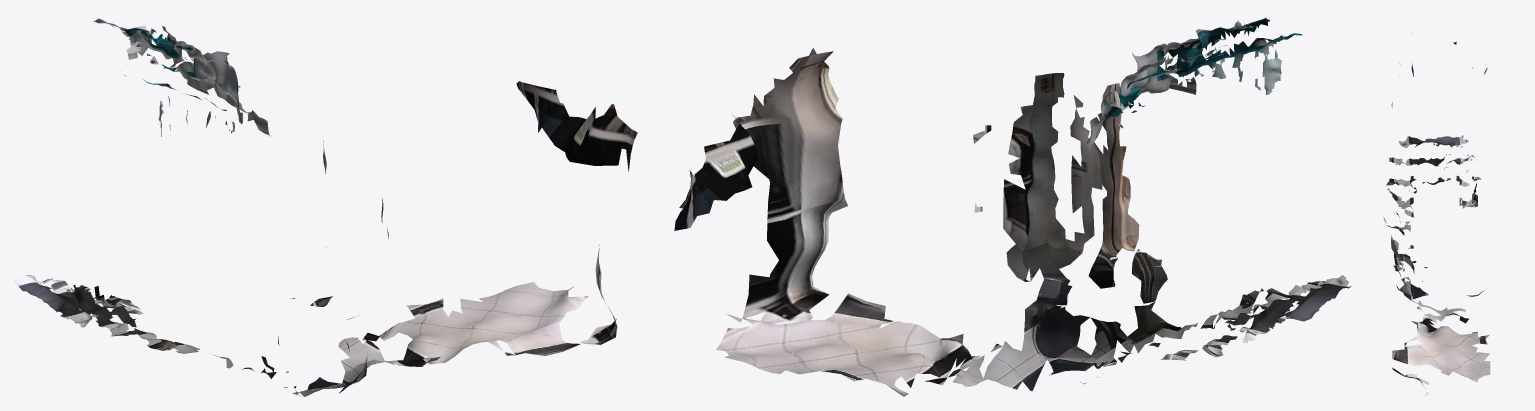
Rendered from 121152-Tanaggalt2-tex.glb.
The picture shows the model from 3 angles, left to right: view 1: azimuth 30°, elevation 25°; view 2: azimuth 150°, elevation 25°; view 3: azimuth 270°, elevation 25°; orthographic projection. The views are drawn at different scales.
Parts seen in each view (by area): view 1: Node; view 2: Node; view 3: Node.
Part boxes in pixels (left/top/right/bottom): Node: left=14, top=18, right=637, bottom=396; Node: left=674, top=18, right=1351, bottom=396; Node: left=1383, top=42, right=1490, bottom=396.
Size of the model in its own units: 6.74 by 4.48 by 2.39.
1 material, 1 textured.
